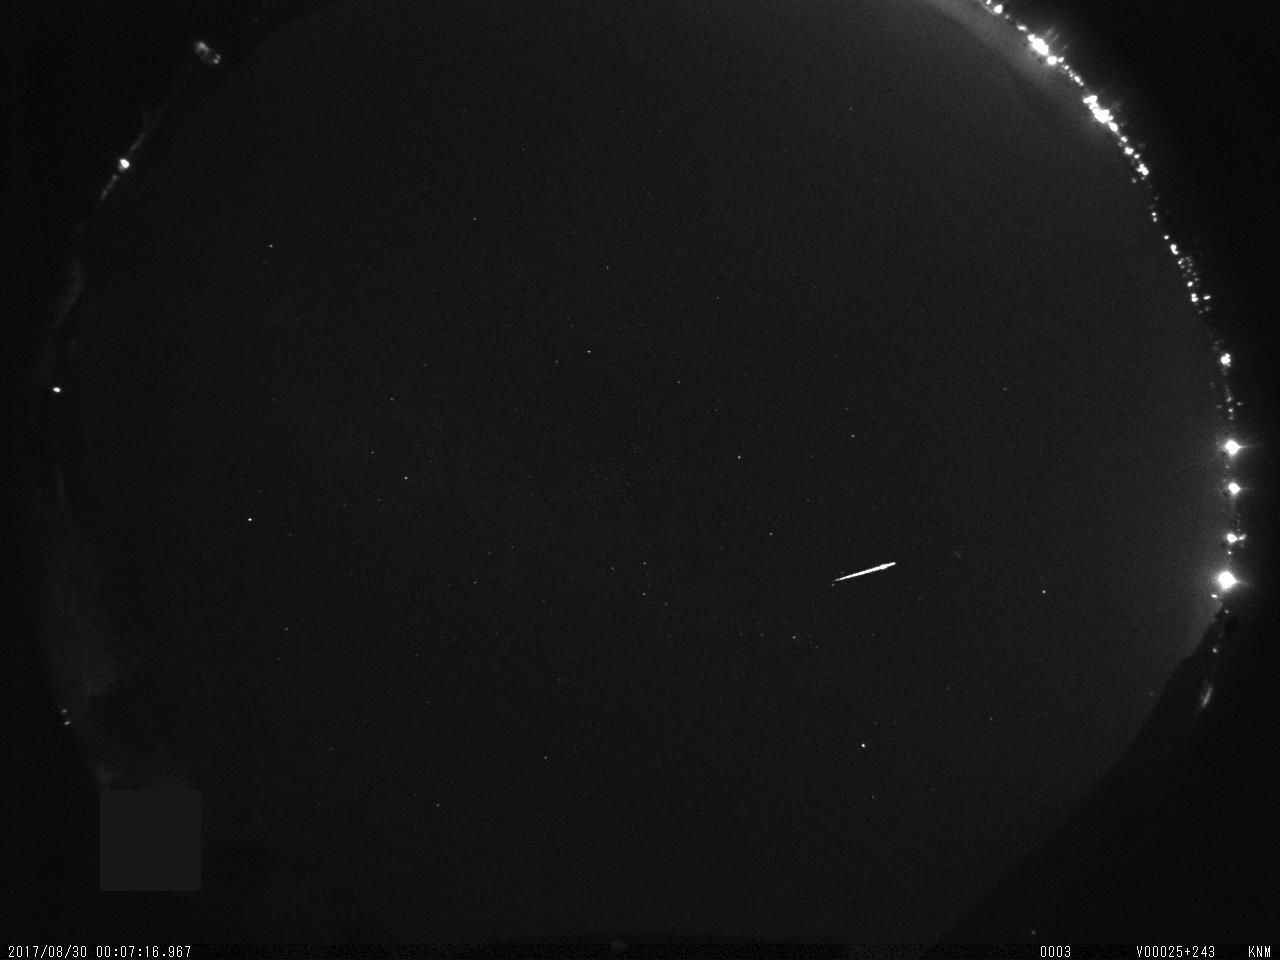Meteor: (831, 550, 906, 589)
